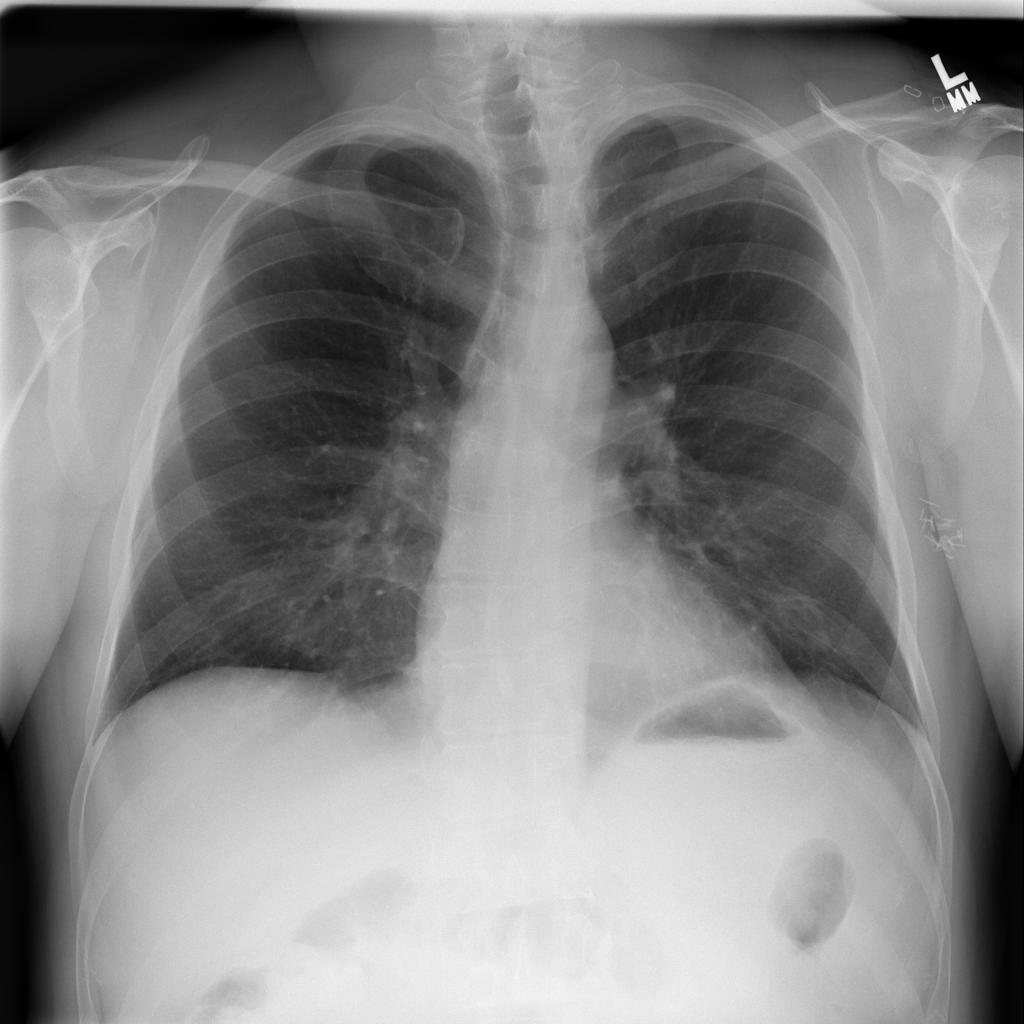nodule: (796, 617, 851, 664)
